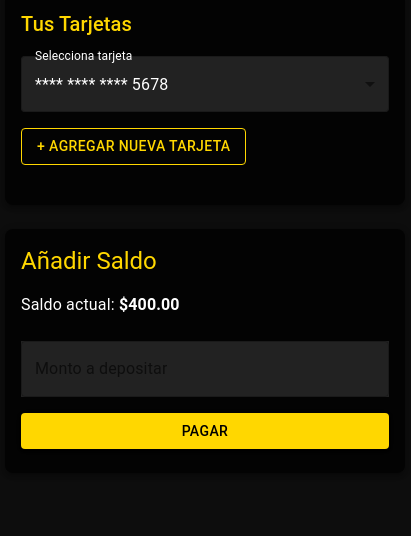
Test: Saldo › realiza pago correctamente
This screenshot has width=411, height=536.
In the field labelled "Monto a depositar": [205, 368] box x1=21 y1=340 x2=389 y2=396, type "100"
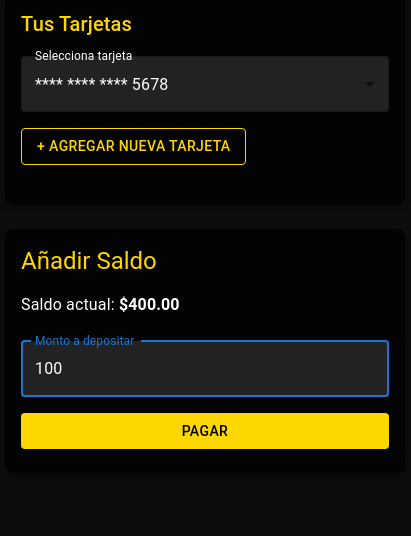
Click the button "Pagar": [205, 431] box x1=21 y1=412 x2=389 y2=449
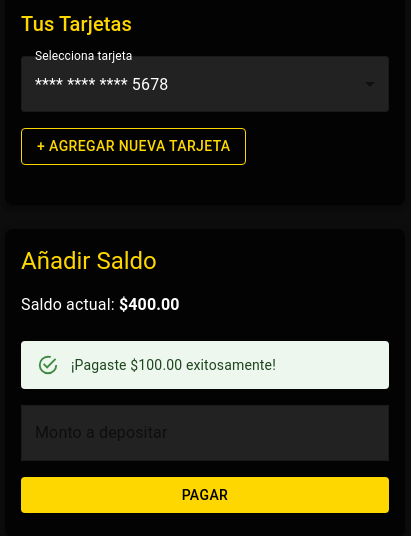
Check: the text "¡Pagaste $100.00 exitosamente!" is shown, box x1=71 y1=356 x2=276 y2=372
